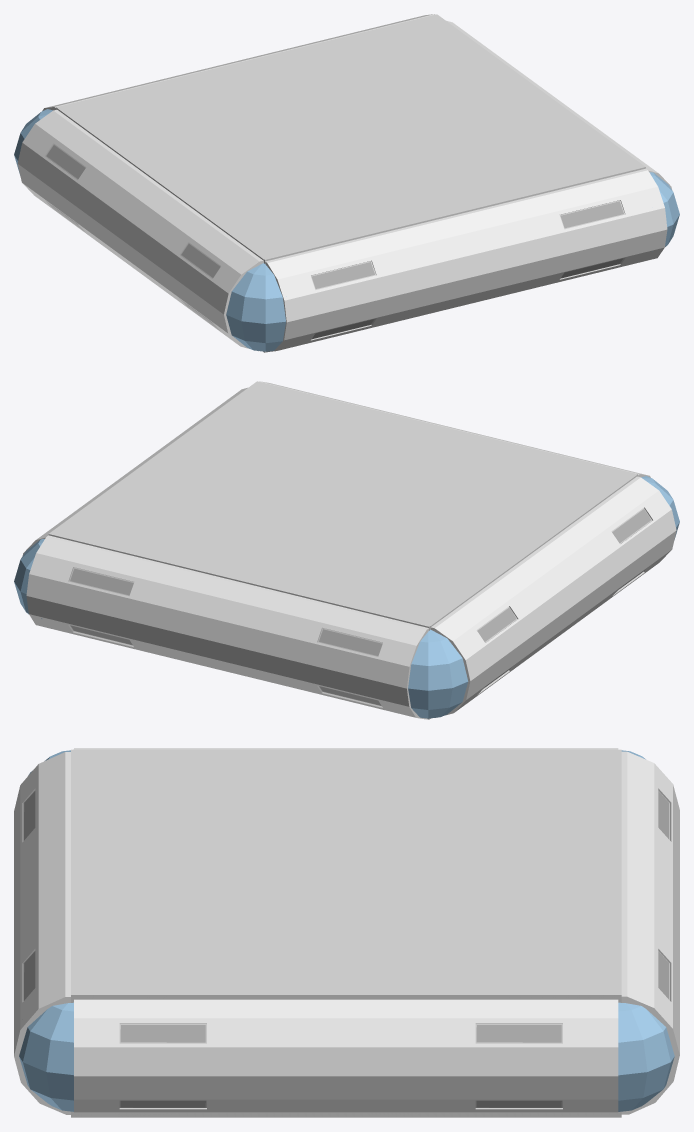
3 views of the same model, one above another, from view 1: azimuth 30°, elevation 25°; view 2: azimuth 150°, elevation 25°; view 3: azimuth 270°, elevation 25° (orthographic). The views are drawn at different scales.
Visible parts, largest first — view 1: Sphere_4; view 2: Sphere_4; view 3: Sphere_4.
Boxes of the visible parts, x1=… form: Sphere_4: x1=14, y1=14, x2=679, y2=352; Sphere_4: x1=14, y1=381, x2=679, y2=719; Sphere_4: x1=14, y1=748, x2=679, y2=1117.
Size of the model in its own units: 1476 by 290 by 1429.
